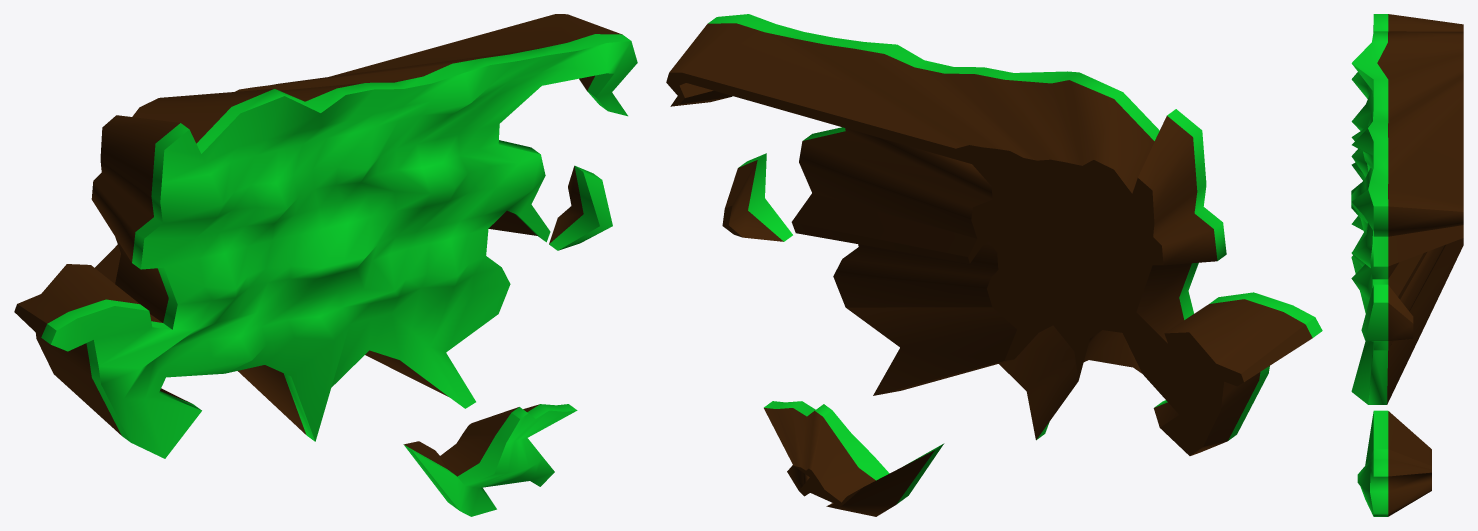
The model's file is asien.fbx.
3 views of the same model, side by side, from view 1: azimuth 30°, elevation 25°; view 2: azimuth 150°, elevation 25°; view 3: azimuth 270°, elevation 25° (orthographic). The views are drawn at different scales.
Parts seen in each view (by area): view 1: asien_flach, indonesien_flach, japan_flach; view 2: asien_flach, indonesien_flach, japan_flach; view 3: asien_flach, indonesien_flach, japan_flach.
Boxes of the visible parts, x1=… form: asien_flach: x1=14, y1=14, x2=637, y2=458; indonesien_flach: x1=403, y1=404, x2=577, y2=516; japan_flach: x1=549, y1=165, x2=612, y2=250; asien_flach: x1=666, y1=14, x2=1322, y2=455; indonesien_flach: x1=764, y1=401, x2=944, y2=516; japan_flach: x1=722, y1=153, x2=792, y2=241; asien_flach: x1=1351, y1=14, x2=1463, y2=404; indonesien_flach: x1=1357, y1=410, x2=1431, y2=516; japan_flach: x1=1361, y1=284, x2=1413, y2=341.
Size of the model in its own units: 19.16 by 14.52 by 3.87.
